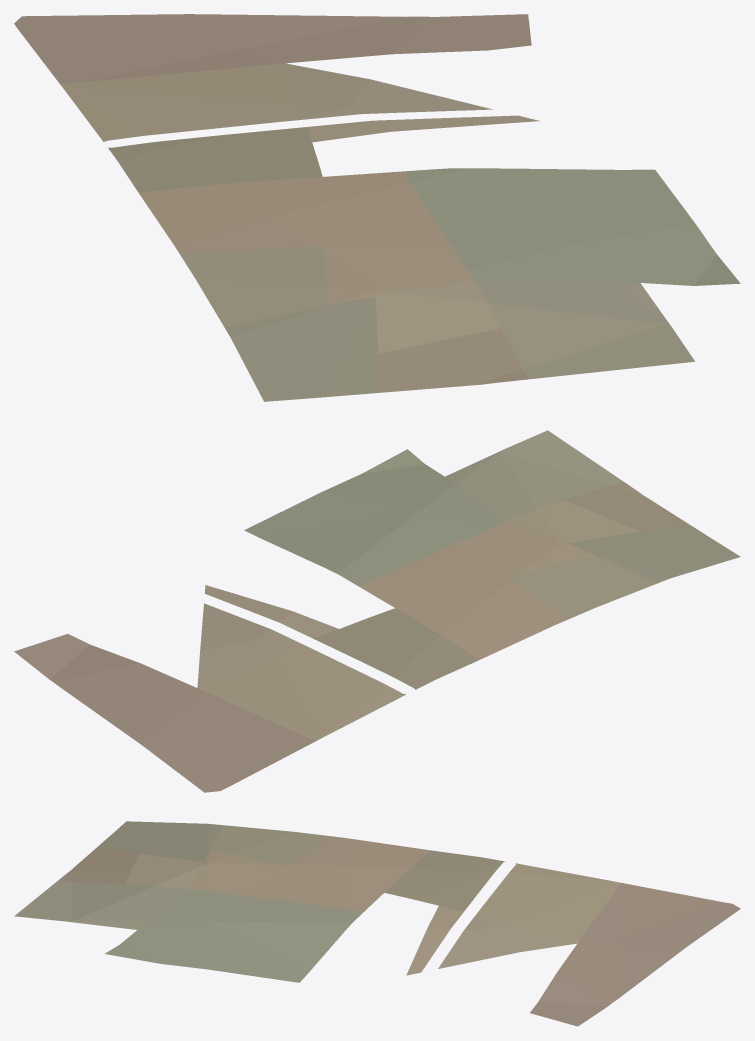
The model's file is farm_-20_-29_soil.glb.
3 renders of one model, top to bottom at view 1: azimuth 30°, elevation 25°; view 2: azimuth 150°, elevation 25°; view 3: azimuth 270°, elevation 25°, orthographic. The views are drawn at different scales.
Parts seen in each view (by area): view 1: geometry_0; view 2: geometry_0; view 3: geometry_0.
Part boxes in pixels (x1,y1,x2,y2): geometry_0: (14,14,740,401); geometry_0: (14,430,740,792); geometry_0: (14,821,740,1026).
Bounding box in the file's own units: 268 × 18 × 427.
